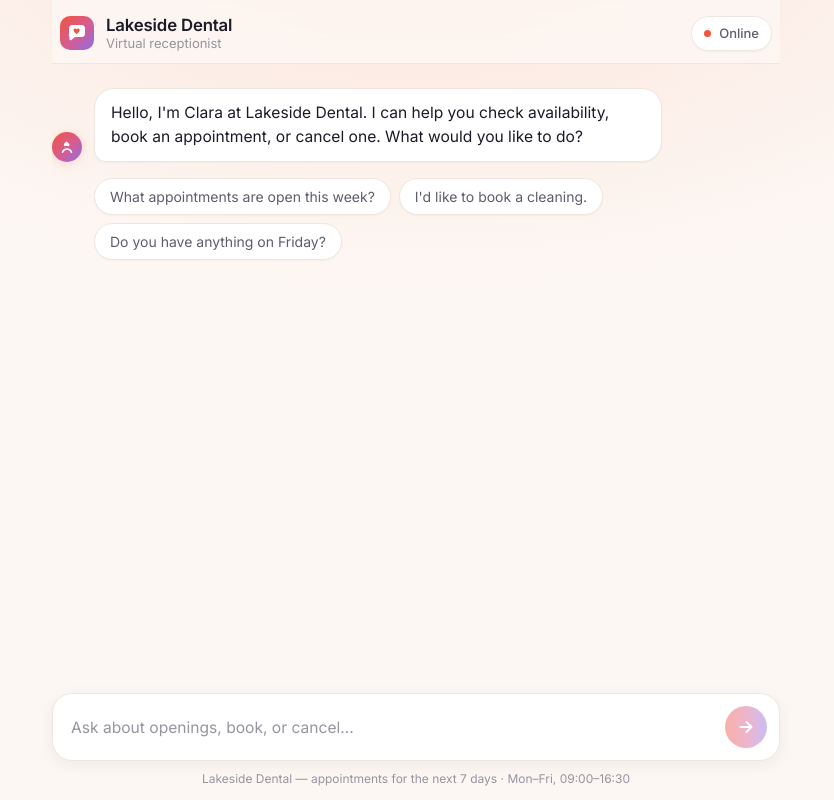
App › sends a message and renders the assistant reply with a trace
Type "what's open?" into the text box named "Message" at (389, 728), box [65, 708, 713, 748]
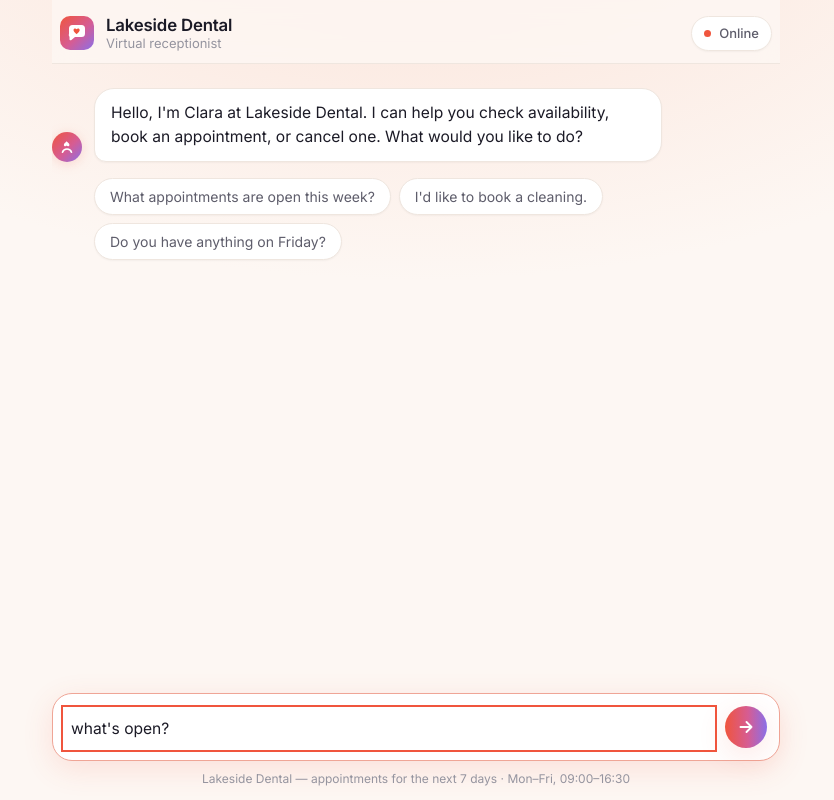
Press Enter
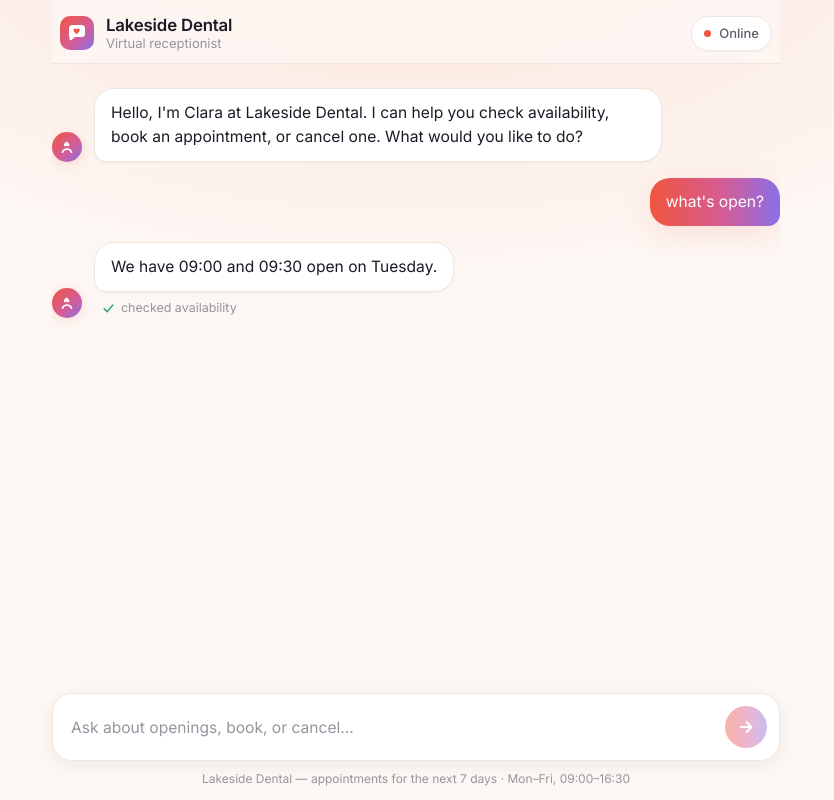
Now the text "what's open?" is shown, box [650, 178, 780, 226]
Now the text "We have 09:00 and 09:30 open on Tuesday." is shown, box [111, 255, 437, 280]
Now the text "checked availability" is shown, box [121, 298, 237, 318]
